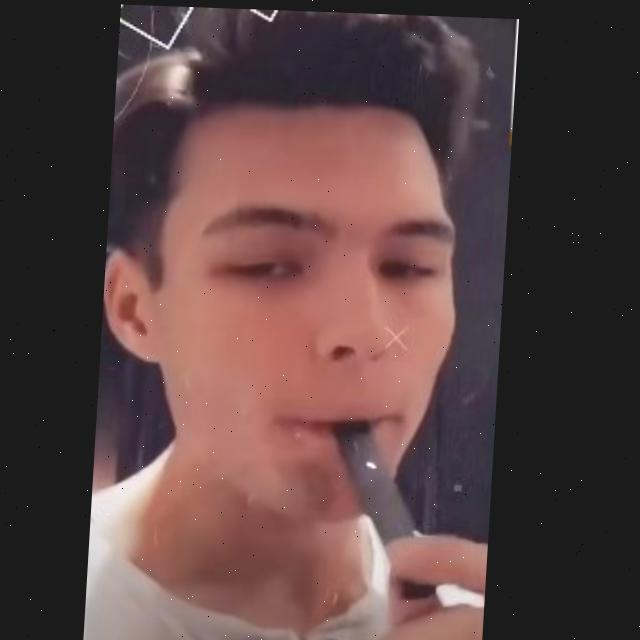vape: (333, 413, 453, 599)
